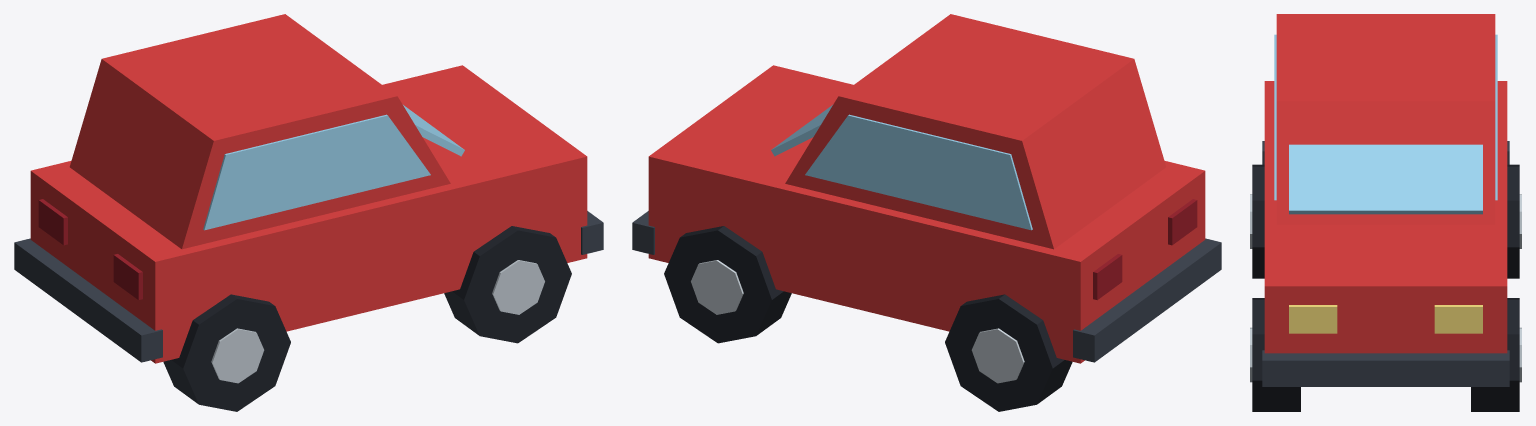
The model's file is Car.fbx.
The picture shows the model from 3 angles, left to right: view 1: azimuth 30°, elevation 25°; view 2: azimuth 150°, elevation 25°; view 3: azimuth 270°, elevation 25°; orthographic projection. The views are drawn at different scales.
Parts seen in each view (by area): view 1: Car; view 2: Car; view 3: Car.
Boxes of the visible parts, box(x1,y1,x2,y2) form: Car: box(14, 14, 603, 411); Car: box(632, 14, 1221, 411); Car: box(1250, 14, 1521, 411).
Bounding box in the file's own units: 6.42 × 3.51 × 3.36.
1 material, 1 textured.
